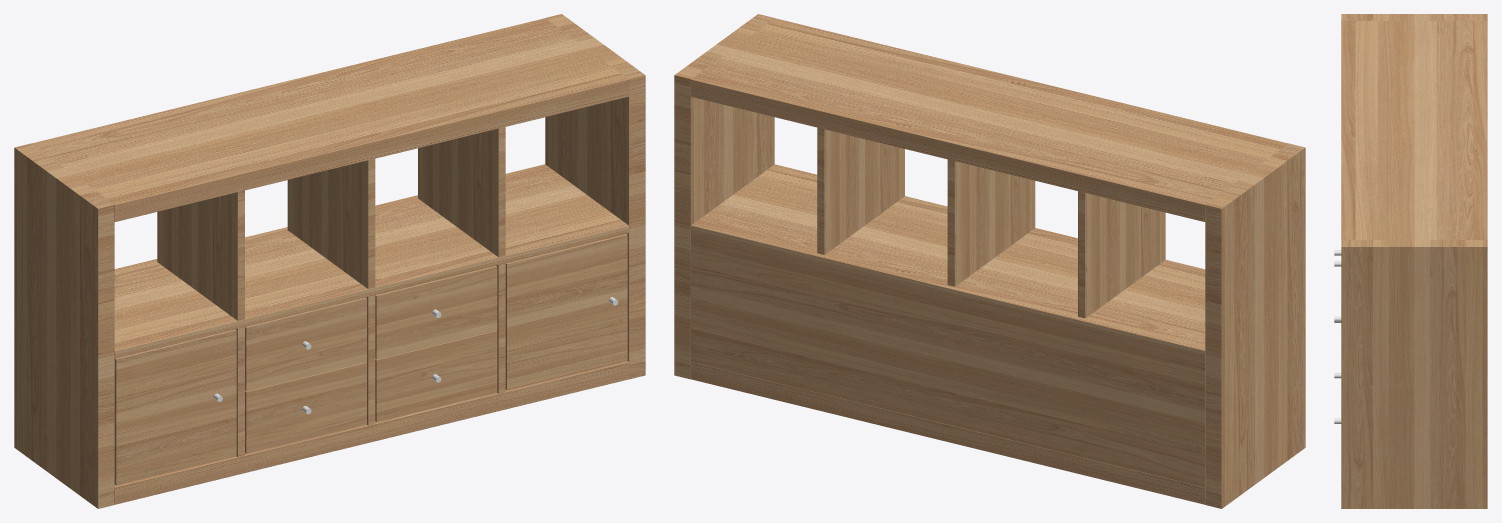
The model's file is KALLAX_Shelf_with_4_Accessories_Whitened_Oak_effect.obj.
The picture shows the model from 3 angles, left to right: view 1: azimuth 30°, elevation 25°; view 2: azimuth 150°, elevation 25°; view 3: azimuth 270°, elevation 25°; orthographic projection. The views are drawn at different scales.
Visible parts, largest first — view 1: Generic_Models; view 2: Generic_Models; view 3: Generic_Models.
Part boxes in pixels (x1,y1,x2,y2): Generic_Models: (14, 14, 645, 508); Generic_Models: (674, 14, 1305, 508); Generic_Models: (1341, 14, 1487, 508).
Bounding box in the file's own units: 1470 × 770 × 408.
